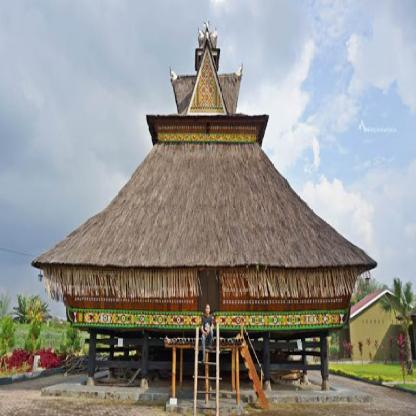Building Outline: (31, 20, 378, 392)
Deco: (66, 306, 350, 331)
Dont: (201, 303, 215, 364)
Door: (198, 268, 219, 313)
Facade: (90, 219, 321, 388)
Floor: (72, 266, 343, 317)
Floor Slab: (72, 317, 343, 328)
Roof: (31, 142, 378, 267), (145, 20, 270, 147)
